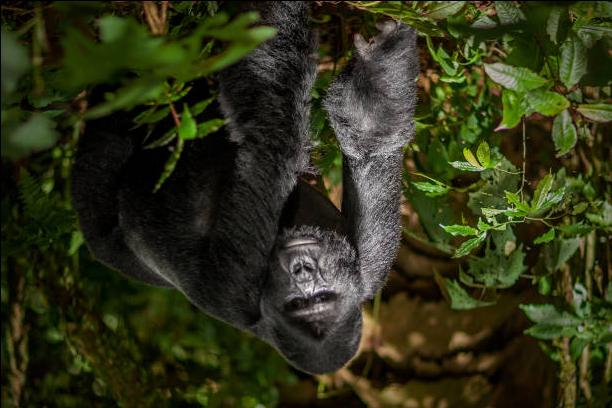goriile_montagne: (56, 3, 411, 407)
